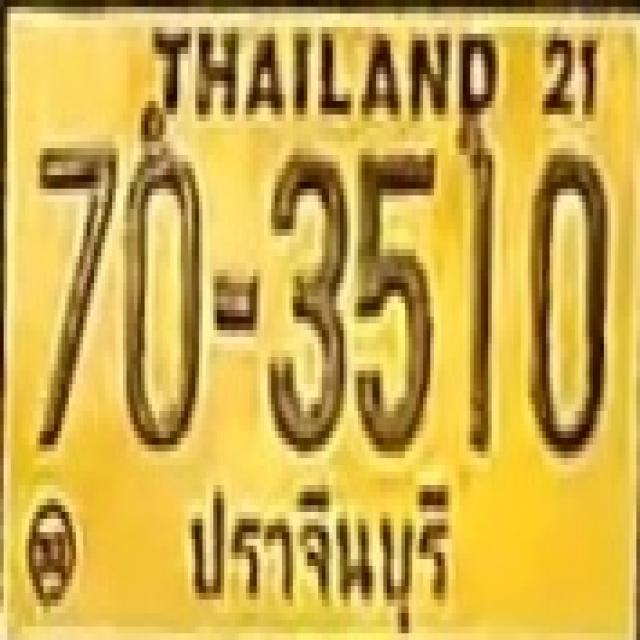0: (528, 148, 604, 452), (124, 145, 200, 448)
1: (464, 128, 494, 451)
3: (264, 148, 347, 452)
5: (351, 148, 434, 452)
7: (36, 142, 116, 452)
PRI: (174, 473, 473, 640)
